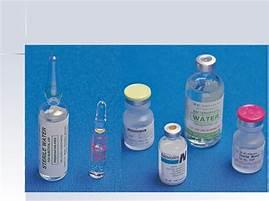Syringe: (36, 50, 72, 183), (182, 50, 226, 148), (230, 100, 269, 178), (118, 80, 155, 152), (82, 95, 112, 183), (155, 122, 191, 186)
